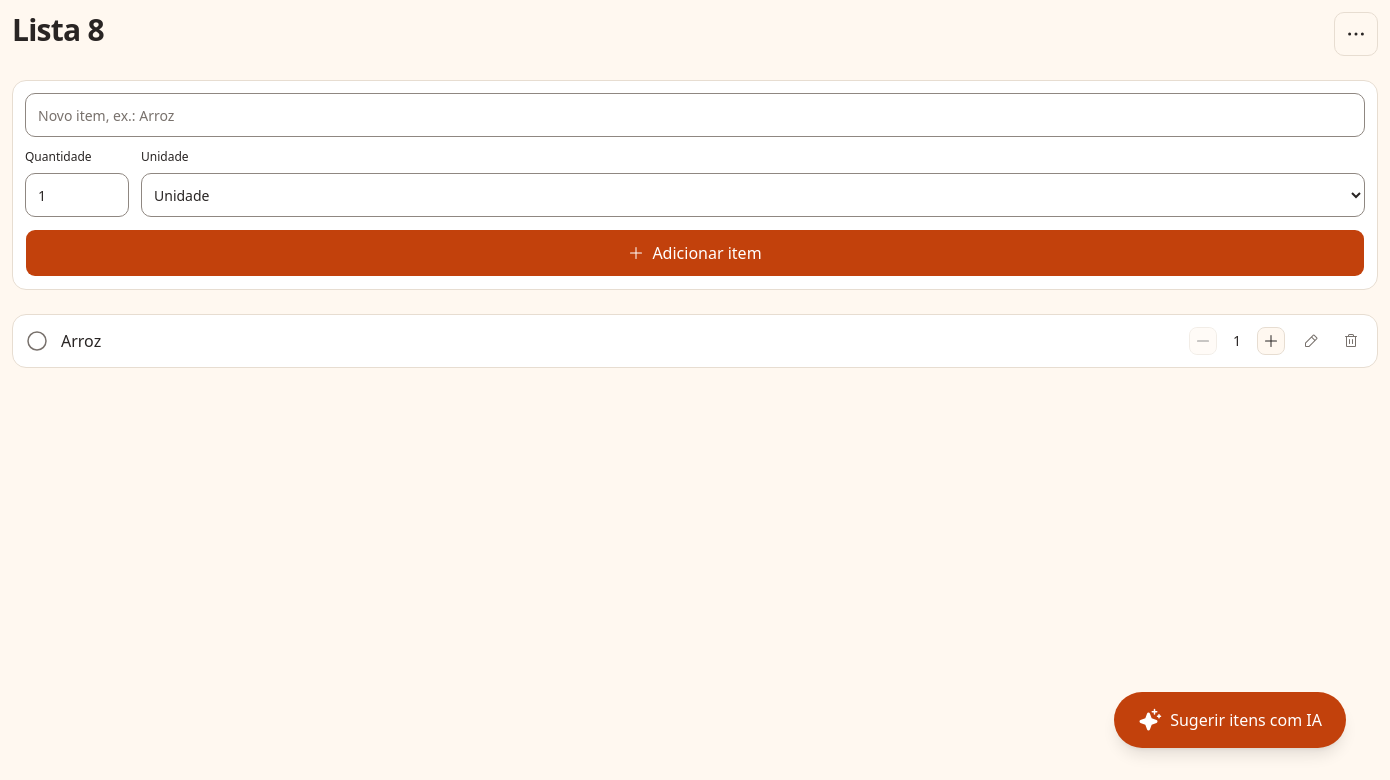
Test: ShopperListDetailView › explains when the list is closed mid-action
Click the checkbox named "Marcar Arroz como comprado": (37, 341) 25,329 -> 49,353
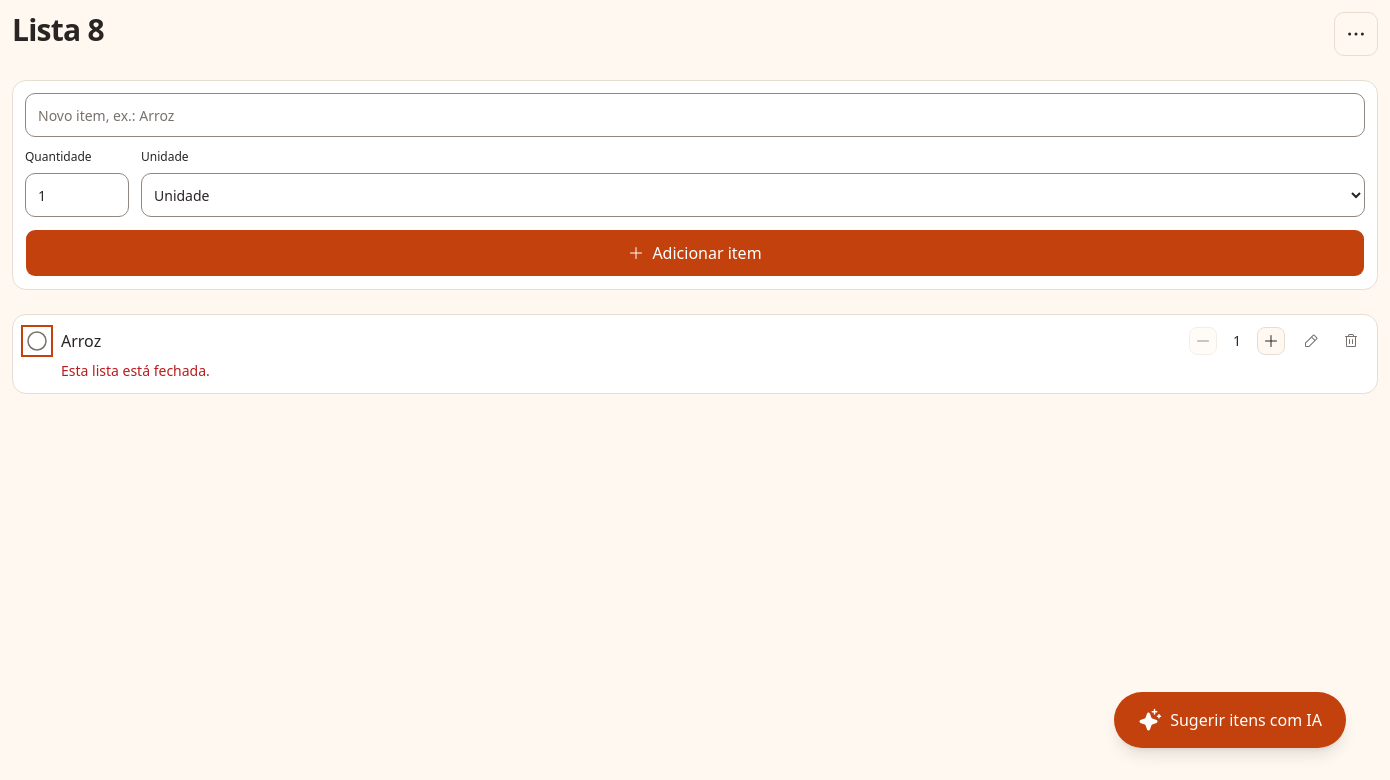
Now the message reads "Esta lista está fechada.", box 61,361 -> 210,380
